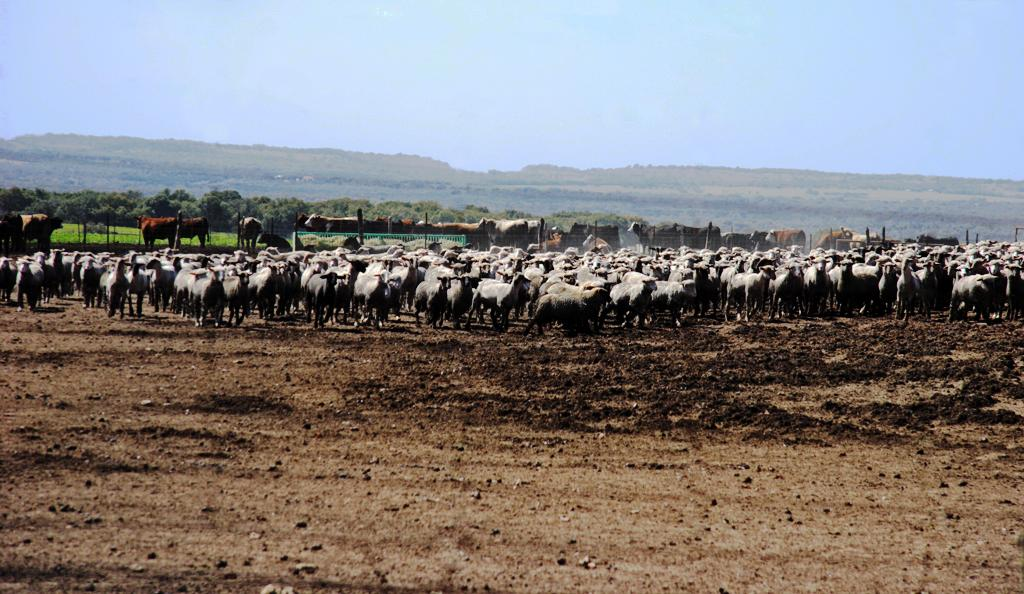Sheep: (528, 283, 602, 337), (352, 263, 396, 329), (638, 279, 694, 330), (476, 273, 525, 331), (833, 258, 879, 318), (726, 265, 773, 323), (606, 277, 657, 330), (949, 270, 999, 324), (769, 260, 808, 321), (412, 271, 452, 328), (304, 267, 341, 328), (441, 273, 479, 331), (386, 258, 420, 321), (895, 259, 926, 326), (218, 269, 252, 328), (248, 262, 282, 321), (800, 257, 832, 318), (689, 262, 721, 319), (193, 269, 224, 327), (171, 259, 202, 316), (148, 255, 178, 313), (521, 262, 551, 317), (274, 260, 302, 318), (875, 258, 902, 318), (125, 257, 151, 318), (14, 258, 43, 312), (915, 258, 941, 318), (329, 265, 355, 325), (717, 259, 743, 316), (79, 255, 105, 309), (932, 256, 956, 311), (827, 256, 849, 314), (36, 251, 60, 302), (1002, 265, 1024, 319), (107, 259, 127, 313), (95, 259, 115, 309), (420, 258, 459, 283), (575, 261, 613, 285), (56, 251, 75, 298), (0, 256, 18, 303), (464, 254, 499, 278), (618, 264, 656, 286), (361, 248, 412, 264), (70, 251, 87, 297), (541, 266, 580, 286), (598, 263, 632, 285), (667, 258, 696, 282), (271, 247, 318, 261), (341, 255, 369, 275), (580, 250, 608, 270), (376, 255, 407, 273), (526, 256, 555, 274), (364, 258, 393, 276), (648, 260, 672, 281), (496, 262, 520, 283), (756, 248, 782, 267), (127, 251, 151, 271), (964, 256, 989, 275), (451, 257, 476, 276), (527, 249, 563, 262), (552, 254, 579, 271), (507, 256, 527, 278), (807, 254, 832, 271), (236, 256, 259, 274), (850, 246, 875, 262), (899, 253, 921, 271), (975, 245, 1001, 260), (256, 247, 283, 261), (824, 251, 845, 269), (440, 248, 462, 265), (954, 261, 972, 281), (440, 242, 469, 254), (190, 254, 213, 269), (934, 250, 952, 269), (985, 259, 1005, 276), (733, 255, 750, 274), (208, 254, 230, 268), (874, 253, 895, 267), (863, 251, 881, 266), (510, 248, 528, 261), (786, 243, 805, 255), (34, 251, 48, 267), (411, 248, 433, 257), (232, 250, 249, 260), (355, 246, 371, 254)
